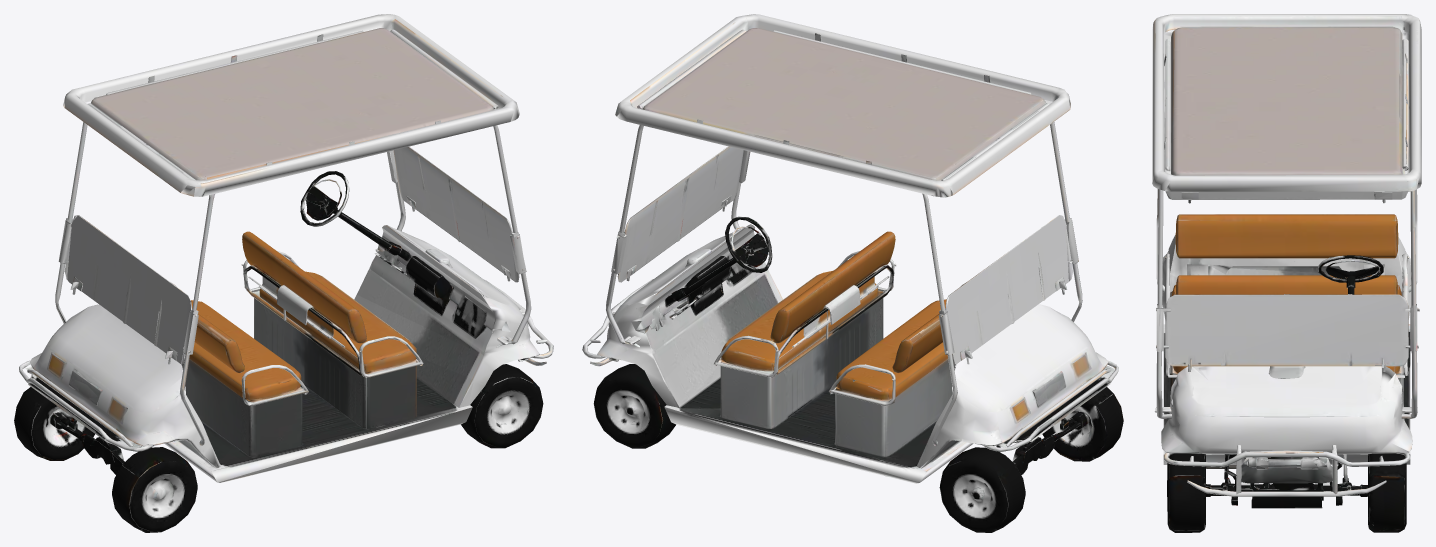
File: golfcart.glb
The picture shows the model from 3 angles, left to right: view 1: azimuth 30°, elevation 25°; view 2: azimuth 150°, elevation 25°; view 3: azimuth 270°, elevation 25°; orthographic projection.
Parts seen in each view (by area): view 1: golfcart, wheel-3, wheel-0, wheel-2; view 2: golfcart, wheel-2, wheel-1, wheel-3; view 3: golfcart, wheel-1, wheel-0.
Part boxes in pixels (box(x1,y1,x2,y2)): golfcart: box(19, 14, 553, 482); wheel-3: box(112, 447, 197, 532); wheel-0: box(461, 364, 543, 448); wheel-2: box(14, 387, 94, 460); golfcart: box(582, 14, 1118, 483); wheel-2: box(939, 447, 1025, 532); wheel-1: box(593, 364, 675, 448); wheel-3: box(1042, 387, 1123, 461); golfcart: box(1152, 14, 1421, 508); wheel-1: box(1368, 453, 1406, 532); wheel-0: box(1167, 453, 1205, 532).
Size of the model in its own units: 2.63 by 1.98 by 1.36.
1 material, 1 textured.
